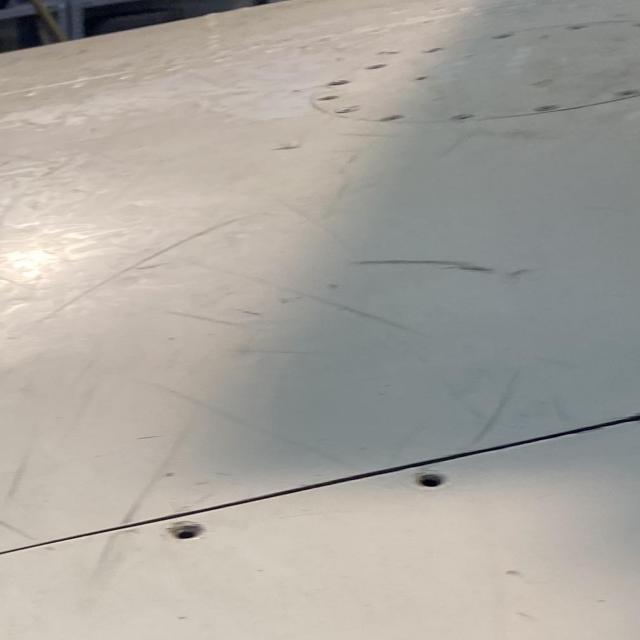Missing-head: (167, 519, 206, 539), (415, 468, 448, 487)
